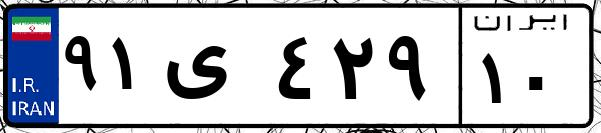0: (525, 38, 570, 115)
1: (475, 38, 525, 113), (110, 28, 158, 98)
2: (330, 28, 385, 110)
4: (270, 28, 330, 110)
9: (385, 28, 445, 110), (57, 26, 110, 100)
ی: (158, 20, 270, 120)
